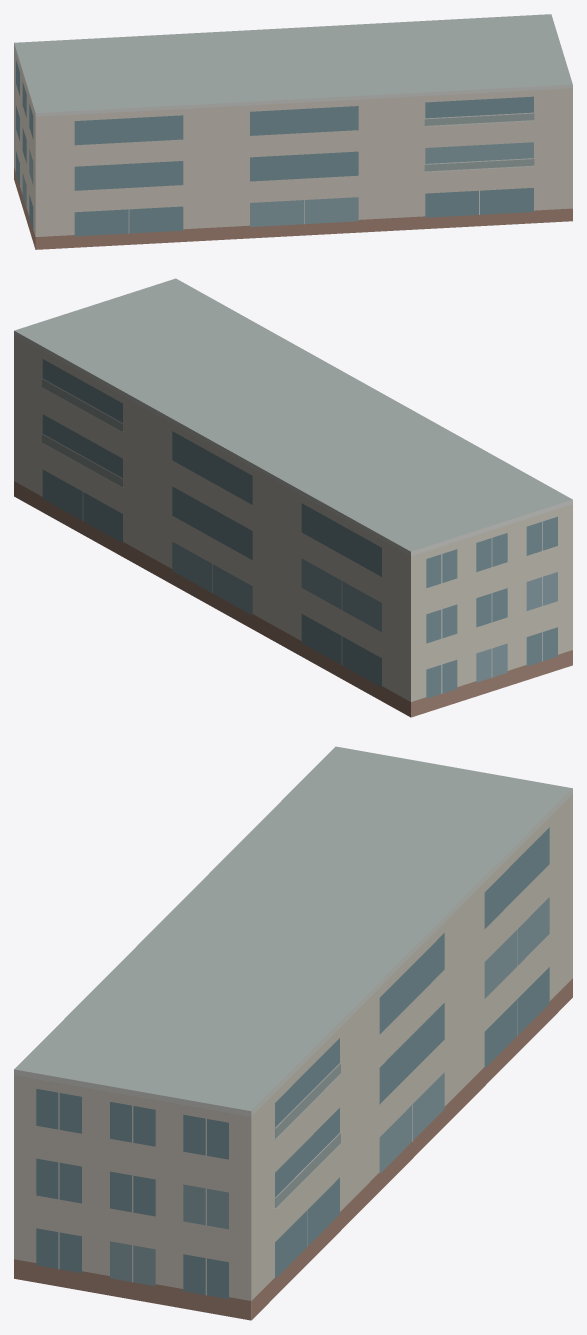
Rendered from survey-upis-32982411.glb.
3 views of the same model, one above another, from view 1: azimuth 30°, elevation 25°; view 2: azimuth 150°, elevation 25°; view 3: azimuth 270°, elevation 25° (orthographic). The views are drawn at different scales.
Visible parts, largest first — view 1: survey-upis-32982411.tmp; view 2: survey-upis-32982411.tmp; view 3: survey-upis-32982411.tmp.
Part boxes in pixels (<box>): survey-upis-32982411.tmp: <box>14,14,572,249</box>; survey-upis-32982411.tmp: <box>14,278,572,717</box>; survey-upis-32982411.tmp: <box>14,746,572,1320</box>.
Bounding box in the file's own units: 34.21 × 9.15 × 22.15.
